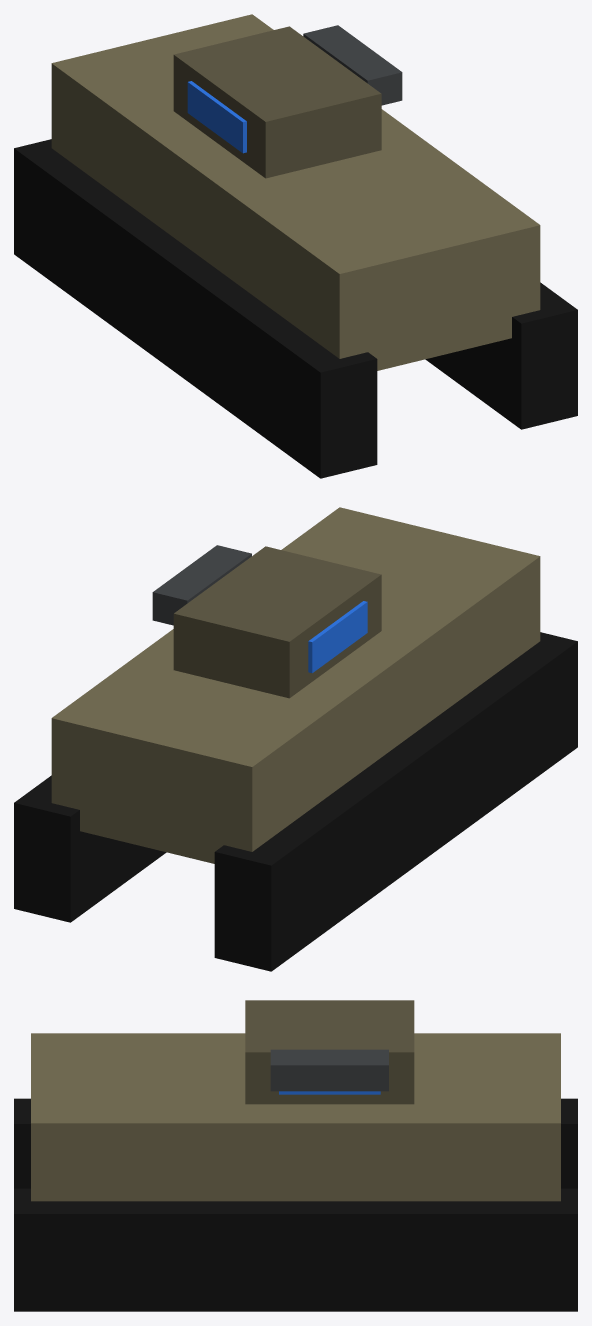
The model's file is us_shorad.glb.
The picture shows the model from 3 angles, top to bottom: view 1: azimuth 30°, elevation 25°; view 2: azimuth 150°, elevation 25°; view 3: azimuth 270°, elevation 25°; orthographic projection. The views are drawn at different scales.
Parts seen in each view (by area): view 1: hull, track_l, turret, track_r, missile_box, team_panel_l; view 2: hull, track_l, turret, track_r, missile_box, team_panel_l; view 3: hull, track_r, turret, missile_box, track_l, team_panel_r.
Boxes of the visible parts, bbox=[...] form: hull: bbox=[51, 14, 540, 370]; track_l: bbox=[14, 139, 377, 478]; turret: bbox=[173, 26, 381, 178]; track_r: bbox=[425, 282, 577, 429]; missile_box: bbox=[303, 25, 402, 105]; team_panel_l: bbox=[187, 81, 246, 153]; hull: bbox=[51, 507, 540, 863]; track_l: bbox=[214, 632, 577, 971]; turret: bbox=[173, 546, 381, 698]; track_r: bbox=[14, 775, 166, 922]; missile_box: bbox=[152, 545, 251, 625]; team_panel_l: bbox=[308, 601, 367, 673]; hull: bbox=[31, 1033, 560, 1201]; track_r: bbox=[14, 1188, 577, 1311]; turret: bbox=[245, 1000, 414, 1104]; missile_box: bbox=[270, 1049, 388, 1091]; track_l: bbox=[14, 1098, 577, 1188]; team_panel_r: bbox=[279, 1091, 380, 1094].
Bounding box in the file's own units: 3.2 × 2.97 × 6.6.
